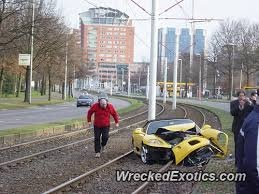Smashed: (140, 122, 228, 165)
